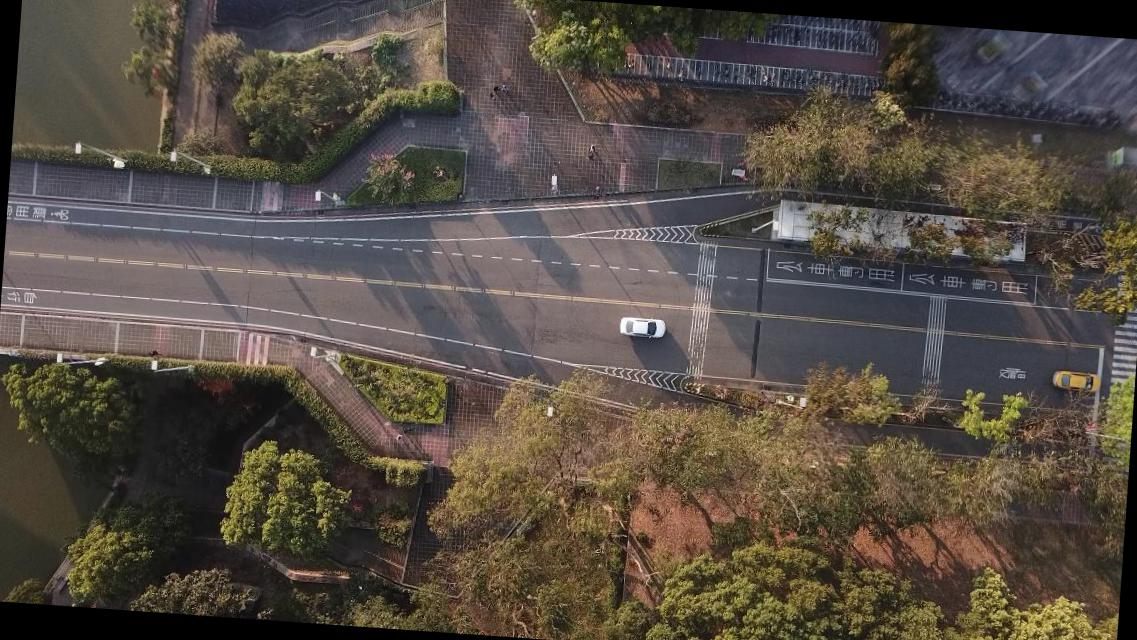vehicle: (619, 314, 665, 340), (1050, 369, 1100, 392)
